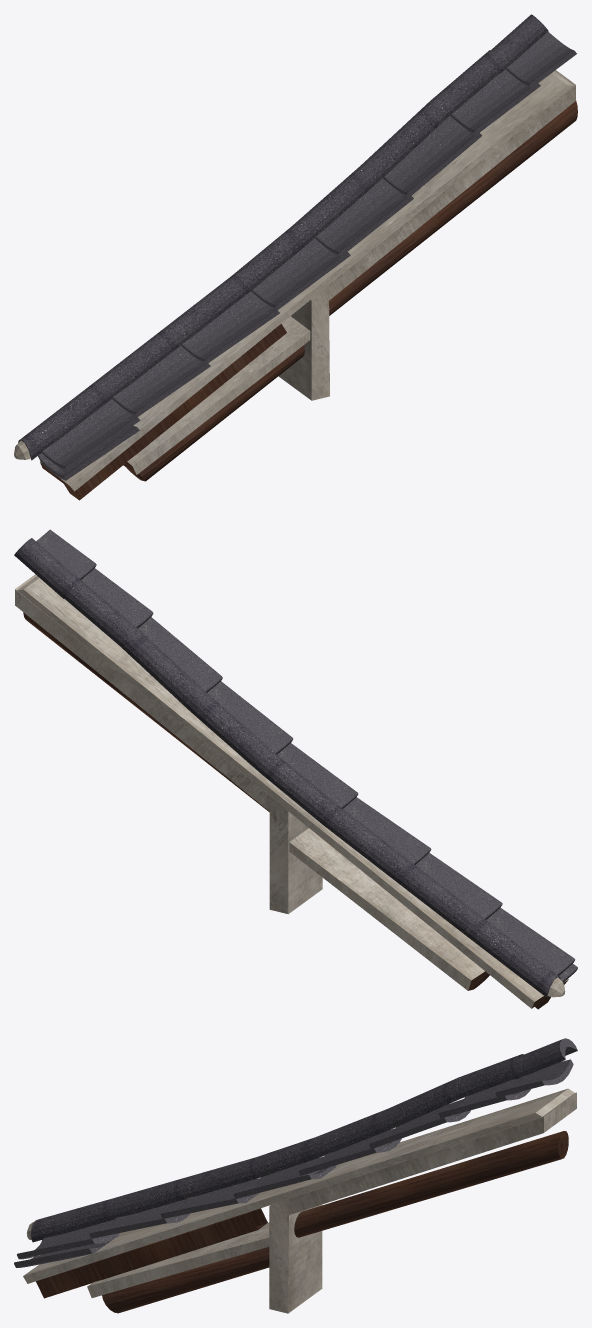
File: SM_Roof_59.fbx
3 views of the same model, one above another, from view 1: azimuth 30°, elevation 25°; view 2: azimuth 150°, elevation 25°; view 3: azimuth 330°, elevation 25° (orthographic). The views are drawn at different scales.
Visible parts, largest first — view 1: SM_Roof_59; view 2: SM_Roof_59; view 3: SM_Roof_59.
Boxes of the visible parts, left/top/right/bottom form: SM_Roof_59: left=14, top=14, right=577, bottom=500; SM_Roof_59: left=14, top=529, right=577, bottom=1009; SM_Roof_59: left=14, top=1038, right=577, bottom=1313.
Bounding box in the file's own units: 438 × 53.05 × 272.
Materials: 4 (4 with a texture image).
